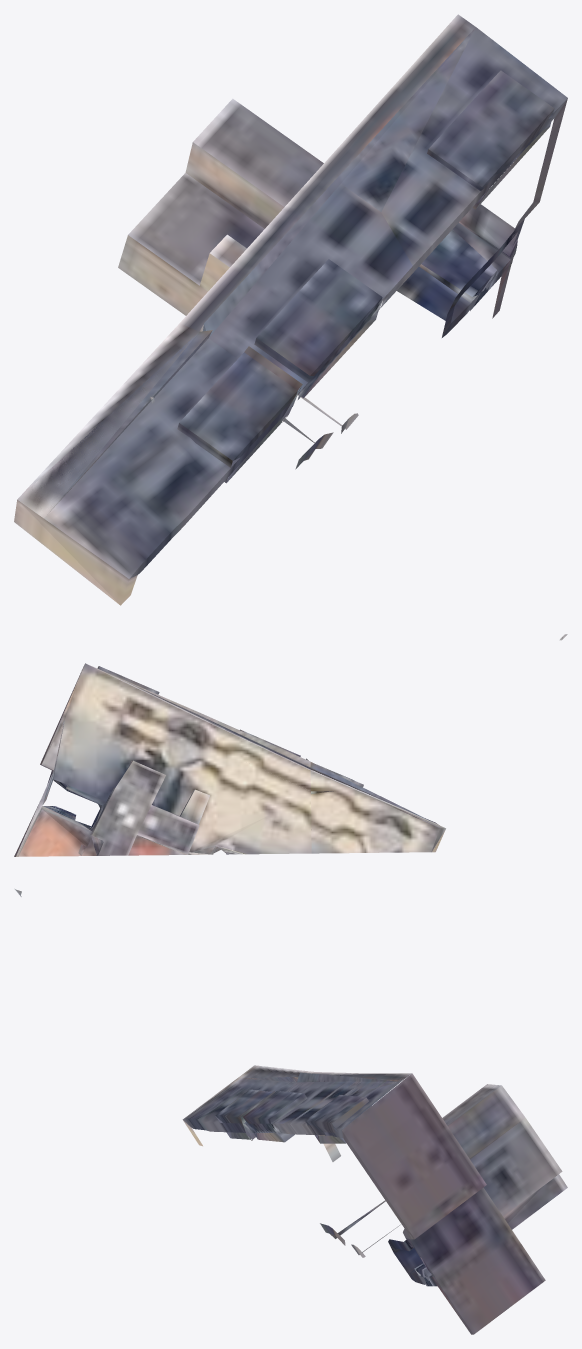
3 views of the same model, one above another, from view 1: azimuth 30°, elevation 25°; view 2: azimuth 150°, elevation 25°; view 3: azimuth 270°, elevation 25° (orthographic). The views are drawn at different scales.
Size of the model in its own units: 44.15 by 21.62 by 45.98.
Materials: 1 (1 with a texture image).
